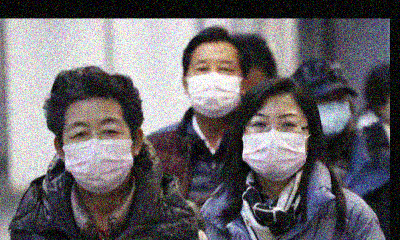with_mask: (58, 114, 135, 191), (242, 108, 308, 182), (185, 56, 243, 121), (315, 95, 352, 139)
